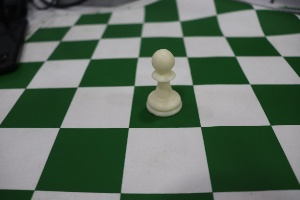white_pawn: (136, 37, 194, 128)
